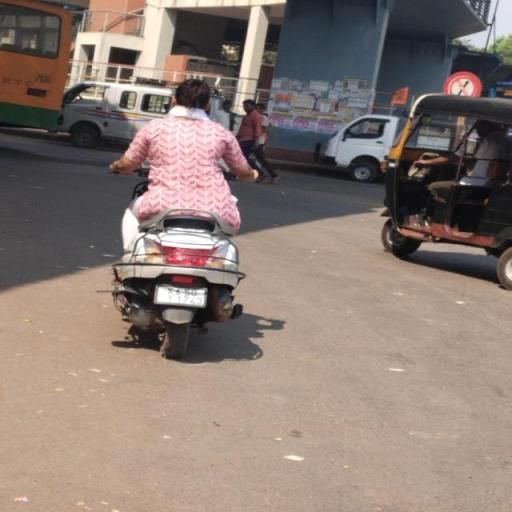bike: (101, 74, 270, 364)
withouthelmet: (176, 78, 212, 110)
